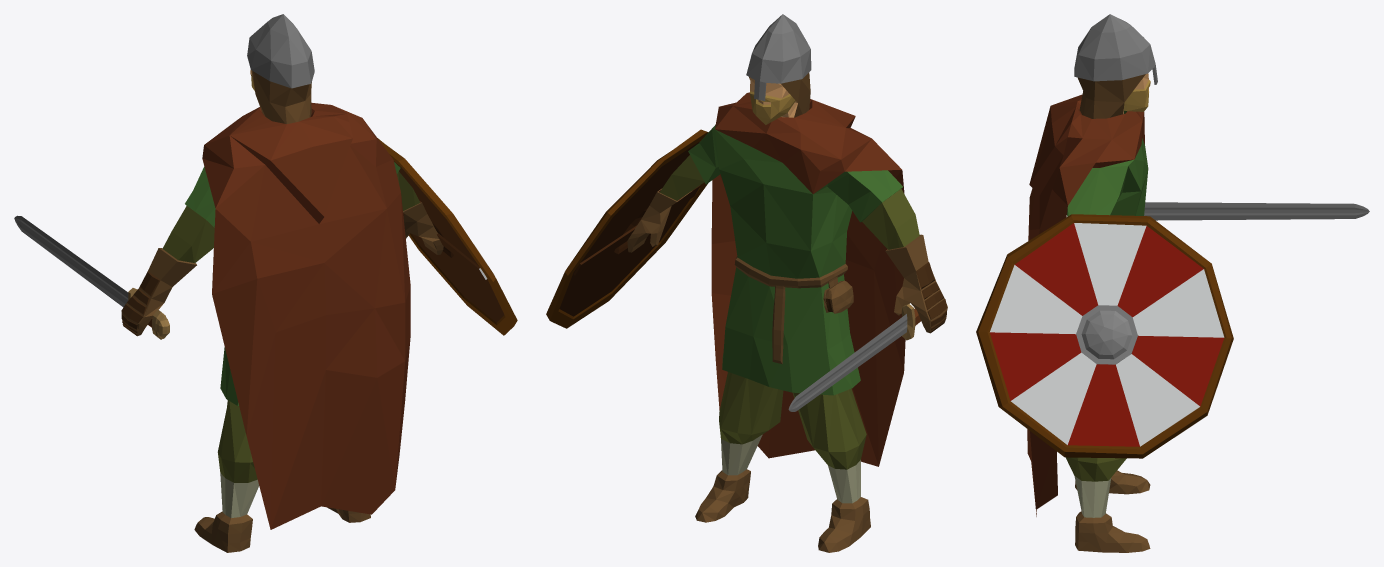
The model's file is ARNOLD.fbx.
3 views of the same model, side by side, from view 1: azimuth 30°, elevation 25°; view 2: azimuth 150°, elevation 25°; view 3: azimuth 270°, elevation 25° (orthographic).
Parts seen in each view (by area): view 1: Cylinder.003, Cylinder.001, Cylinder.005; view 2: Cylinder.003, Cylinder.001, Cylinder.005, Cube.000; view 3: Cylinder.001, Cylinder.003, Cylinder.005, Cube.000.
Part boxes in pixels (bbox=[...]): Cylinder.003: bbox=[121, 14, 443, 552]; Cylinder.001: bbox=[377, 138, 517, 335]; Cylinder.005: bbox=[14, 215, 169, 339]; Cylinder.003: bbox=[627, 14, 947, 552]; Cylinder.001: bbox=[546, 129, 708, 328]; Cylinder.005: bbox=[788, 304, 920, 411]; Cube.000: bbox=[750, 77, 797, 124]; Cylinder.001: bbox=[976, 214, 1233, 458]; Cylinder.003: bbox=[1027, 14, 1157, 552]; Cylinder.005: bbox=[1144, 202, 1369, 220]; Cube.000: bbox=[1123, 73, 1150, 113].
Size of the model in its own units: 378 by 510 by 362.
